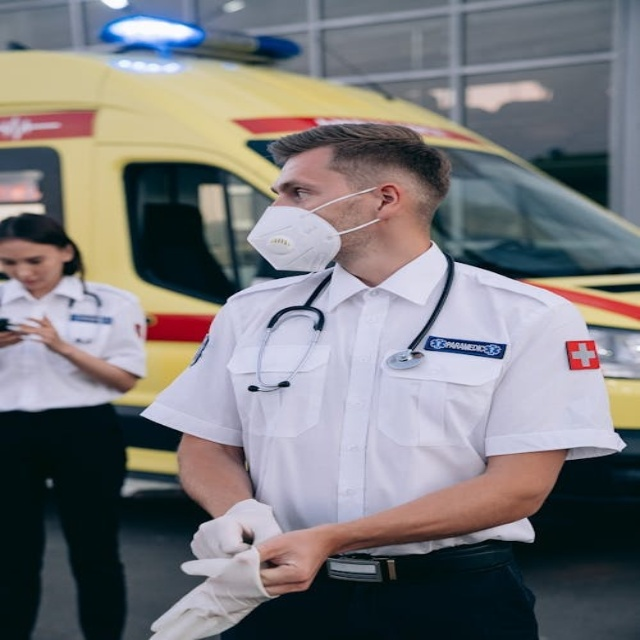Guantes: (151, 548, 278, 638), (190, 499, 285, 562)
Mascara: (245, 197, 349, 273)
Sin_gafas: (262, 177, 340, 201), (3, 254, 50, 271)
Sin_guantes: (4, 312, 64, 353)
Sin_mascara: (15, 276, 42, 292)
